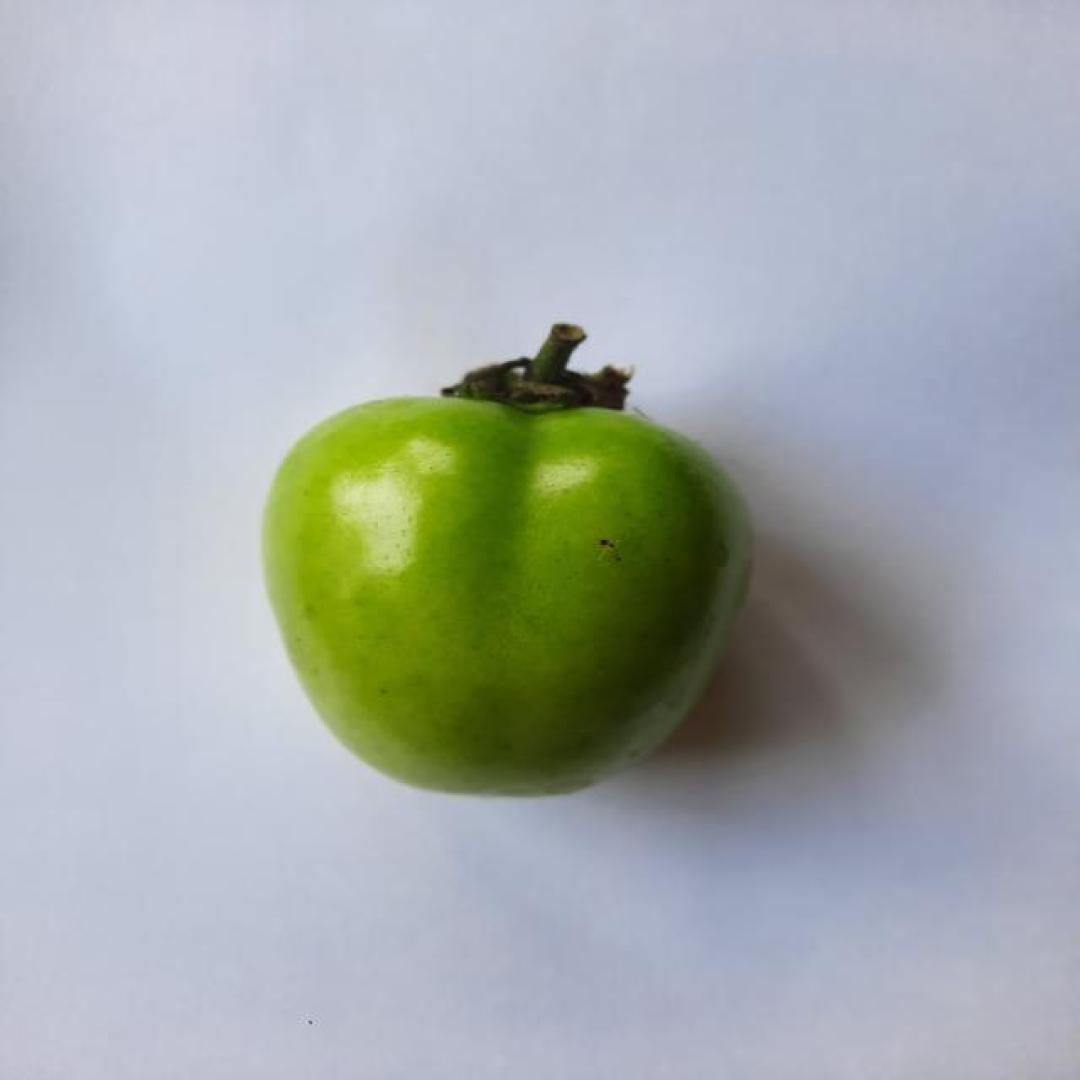mentah: (258, 324, 753, 800)
